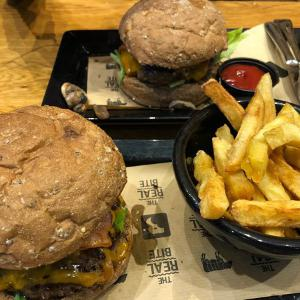cheeseburger_475cal: (2, 99, 142, 300), (114, 1, 233, 107)
fries_350cal: (175, 65, 300, 251)
